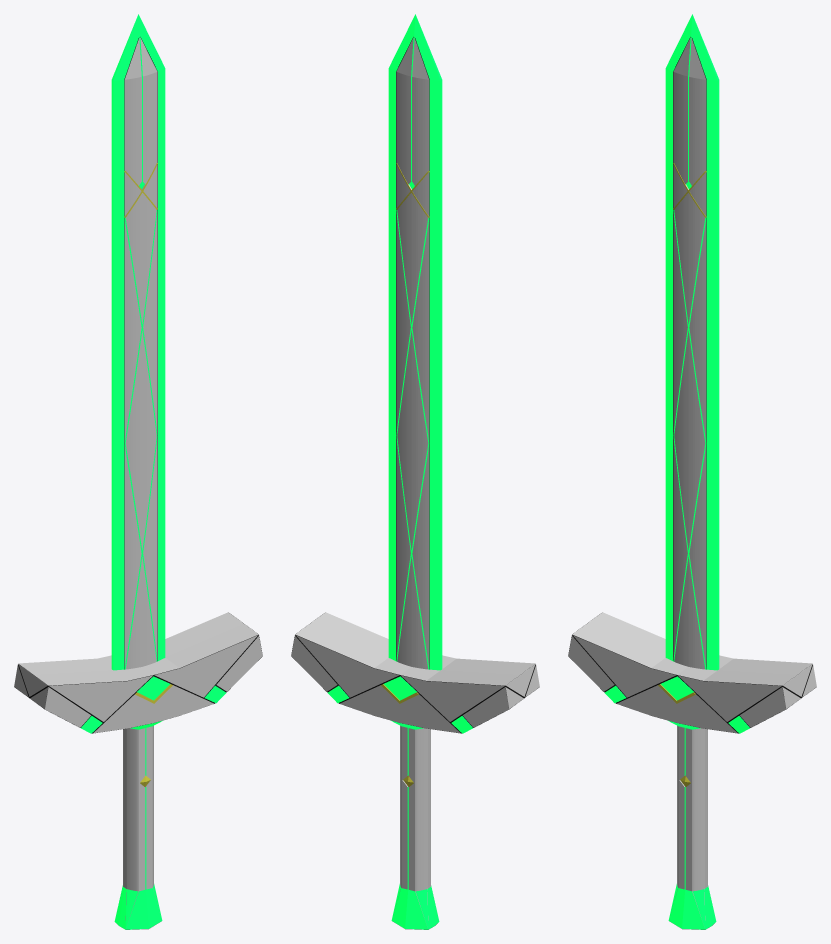
The model's file is sword2.fbx.
3 renders of one model, left to right at view 1: azimuth 30°, elevation 25°; view 2: azimuth 150°, elevation 25°; view 3: azimuth 330°, elevation 25°, orthographic.
Parts seen in each view (by area): view 1: Sword; view 2: Sword; view 3: Sword.
Boxes of the visible parts, x1=… form: Sword: x1=14, y1=14, x2=262, y2=929; Sword: x1=291, y1=14, x2=539, y2=929; Sword: x1=568, y1=14, x2=816, y2=929.
Size of the model in its own units: 0.3319 by 1.32 by 0.0824.
